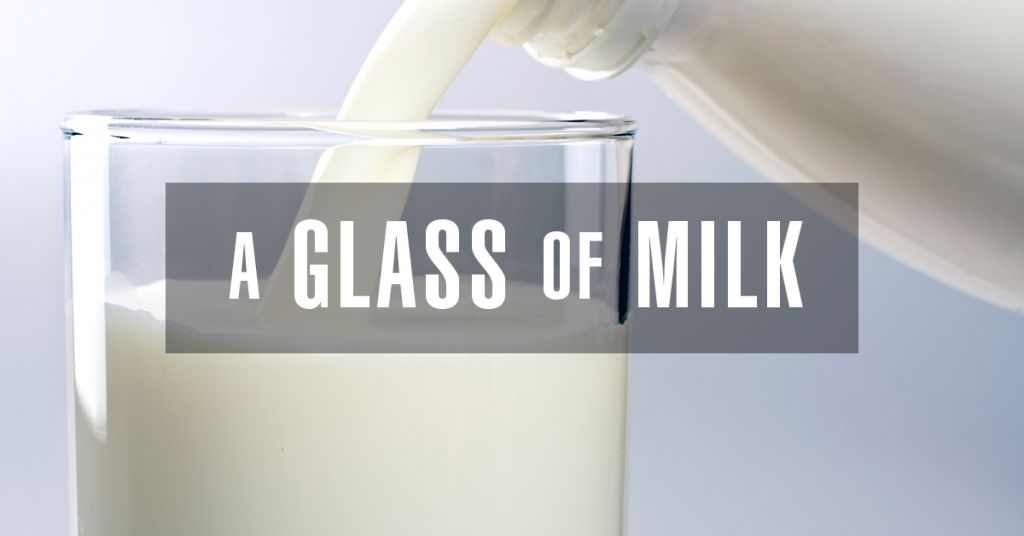glass of milk: (68, 106, 634, 524)
